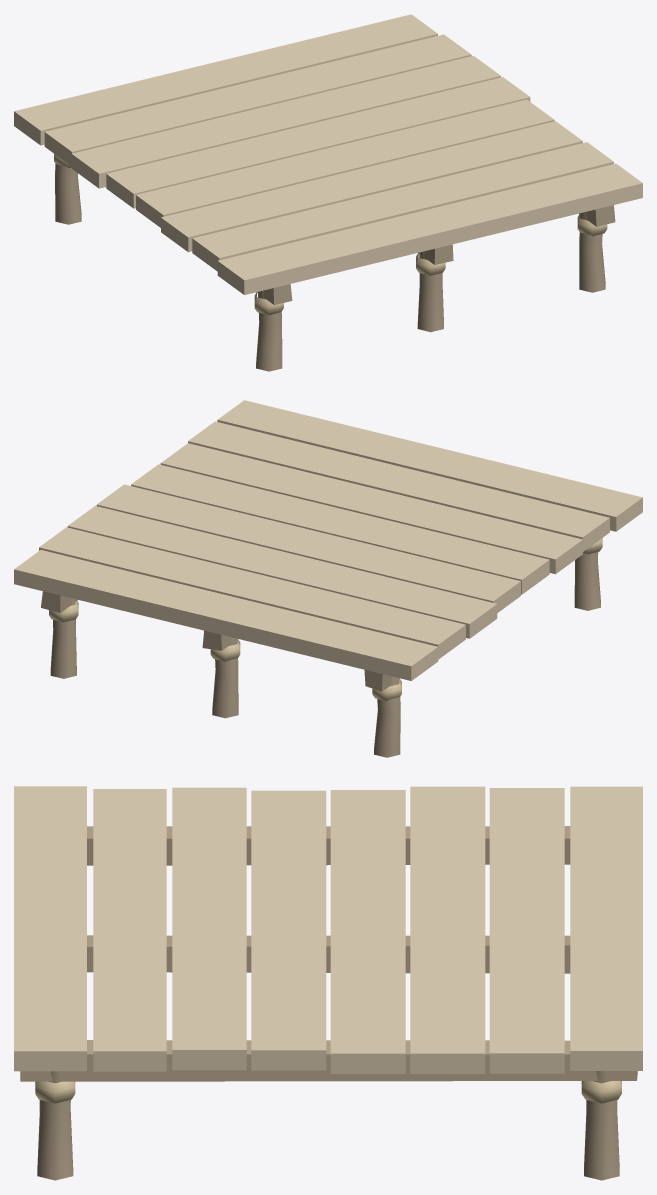
File: building.platform.glb
3 renders of one model, top to bottom at view 1: azimuth 30°, elevation 25°; view 2: azimuth 150°, elevation 25°; view 3: azimuth 270°, elevation 25°, orthographic. The views are drawn at different scales.
Visible parts, largest first — view 1: Paint, PaintDark, Rope; view 2: Paint, PaintDark, Rope; view 3: Paint, PaintDark, Rope.
Boxes of the visible parts, x1,y1,x2,y2 form: Paint: (14,14,642,294); PaintDark: (55,164,615,371); Rope: (54,154,607,314); Paint: (14,400,642,680); PaintDark: (41,552,600,757); Rope: (49,538,602,701); Paint: (14,786,642,1073); PaintDark: (20,826,637,1180); Rope: (35,1081,621,1103).
Bounding box in the file's own units: 1.99 × 0.5 × 1.98.
